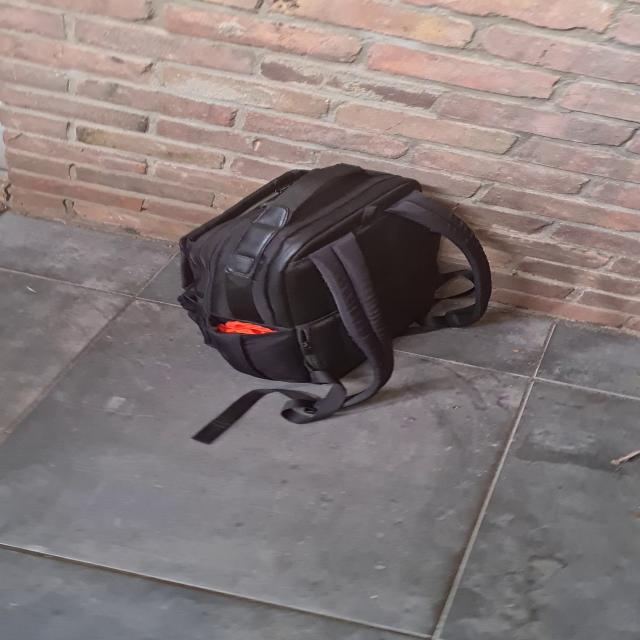backpack: (167, 155, 503, 422)
